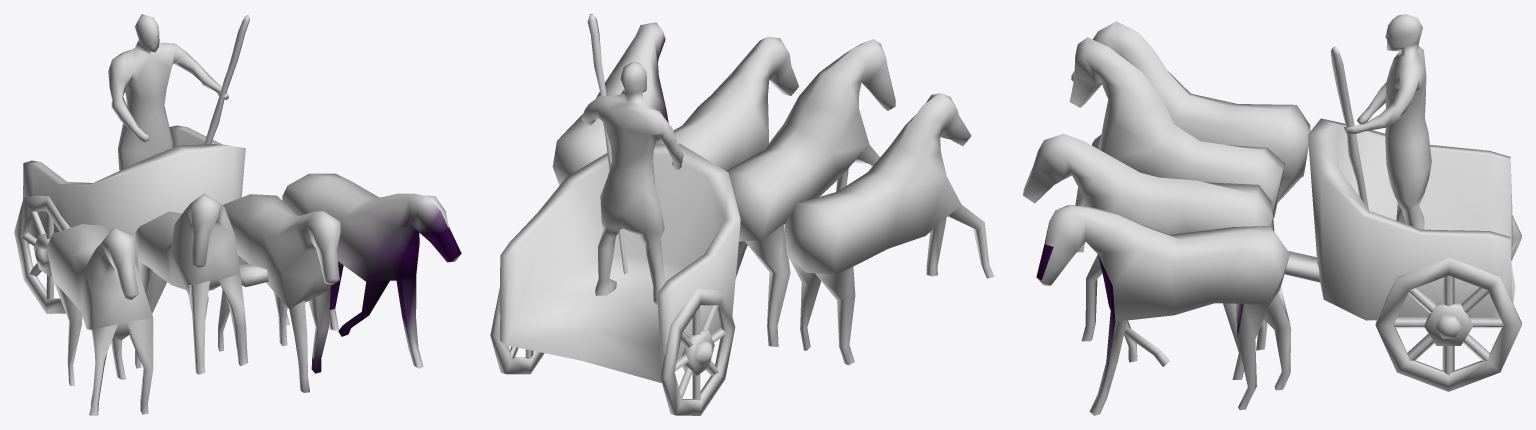
File: rome_quadriga_statue.dae
The picture shows the model from 3 angles, left to right: view 1: azimuth 30°, elevation 25°; view 2: azimuth 150°, elevation 25°; view 3: azimuth 270°, elevation 25°; orthographic projection. The views are drawn at different scales.
Visible parts, largest first — view 1: rome_quadriga_statue; view 2: rome_quadriga_statue; view 3: rome_quadriga_statue.
Part boxes in pixels (x1,y1,x2,y2): rome_quadriga_statue: (14, 14, 461, 415); rome_quadriga_statue: (490, 14, 994, 415); rome_quadriga_statue: (1023, 14, 1521, 415).
Bounding box in the file's own units: 5.2 × 5.64 × 4.22.
